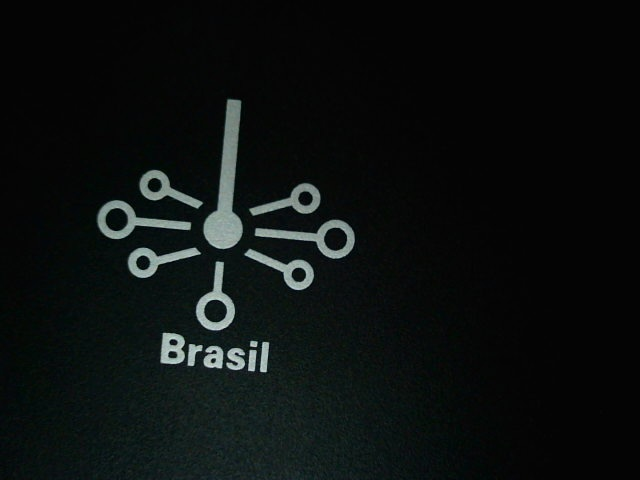BG_Brasil: (68, 71, 382, 403)
